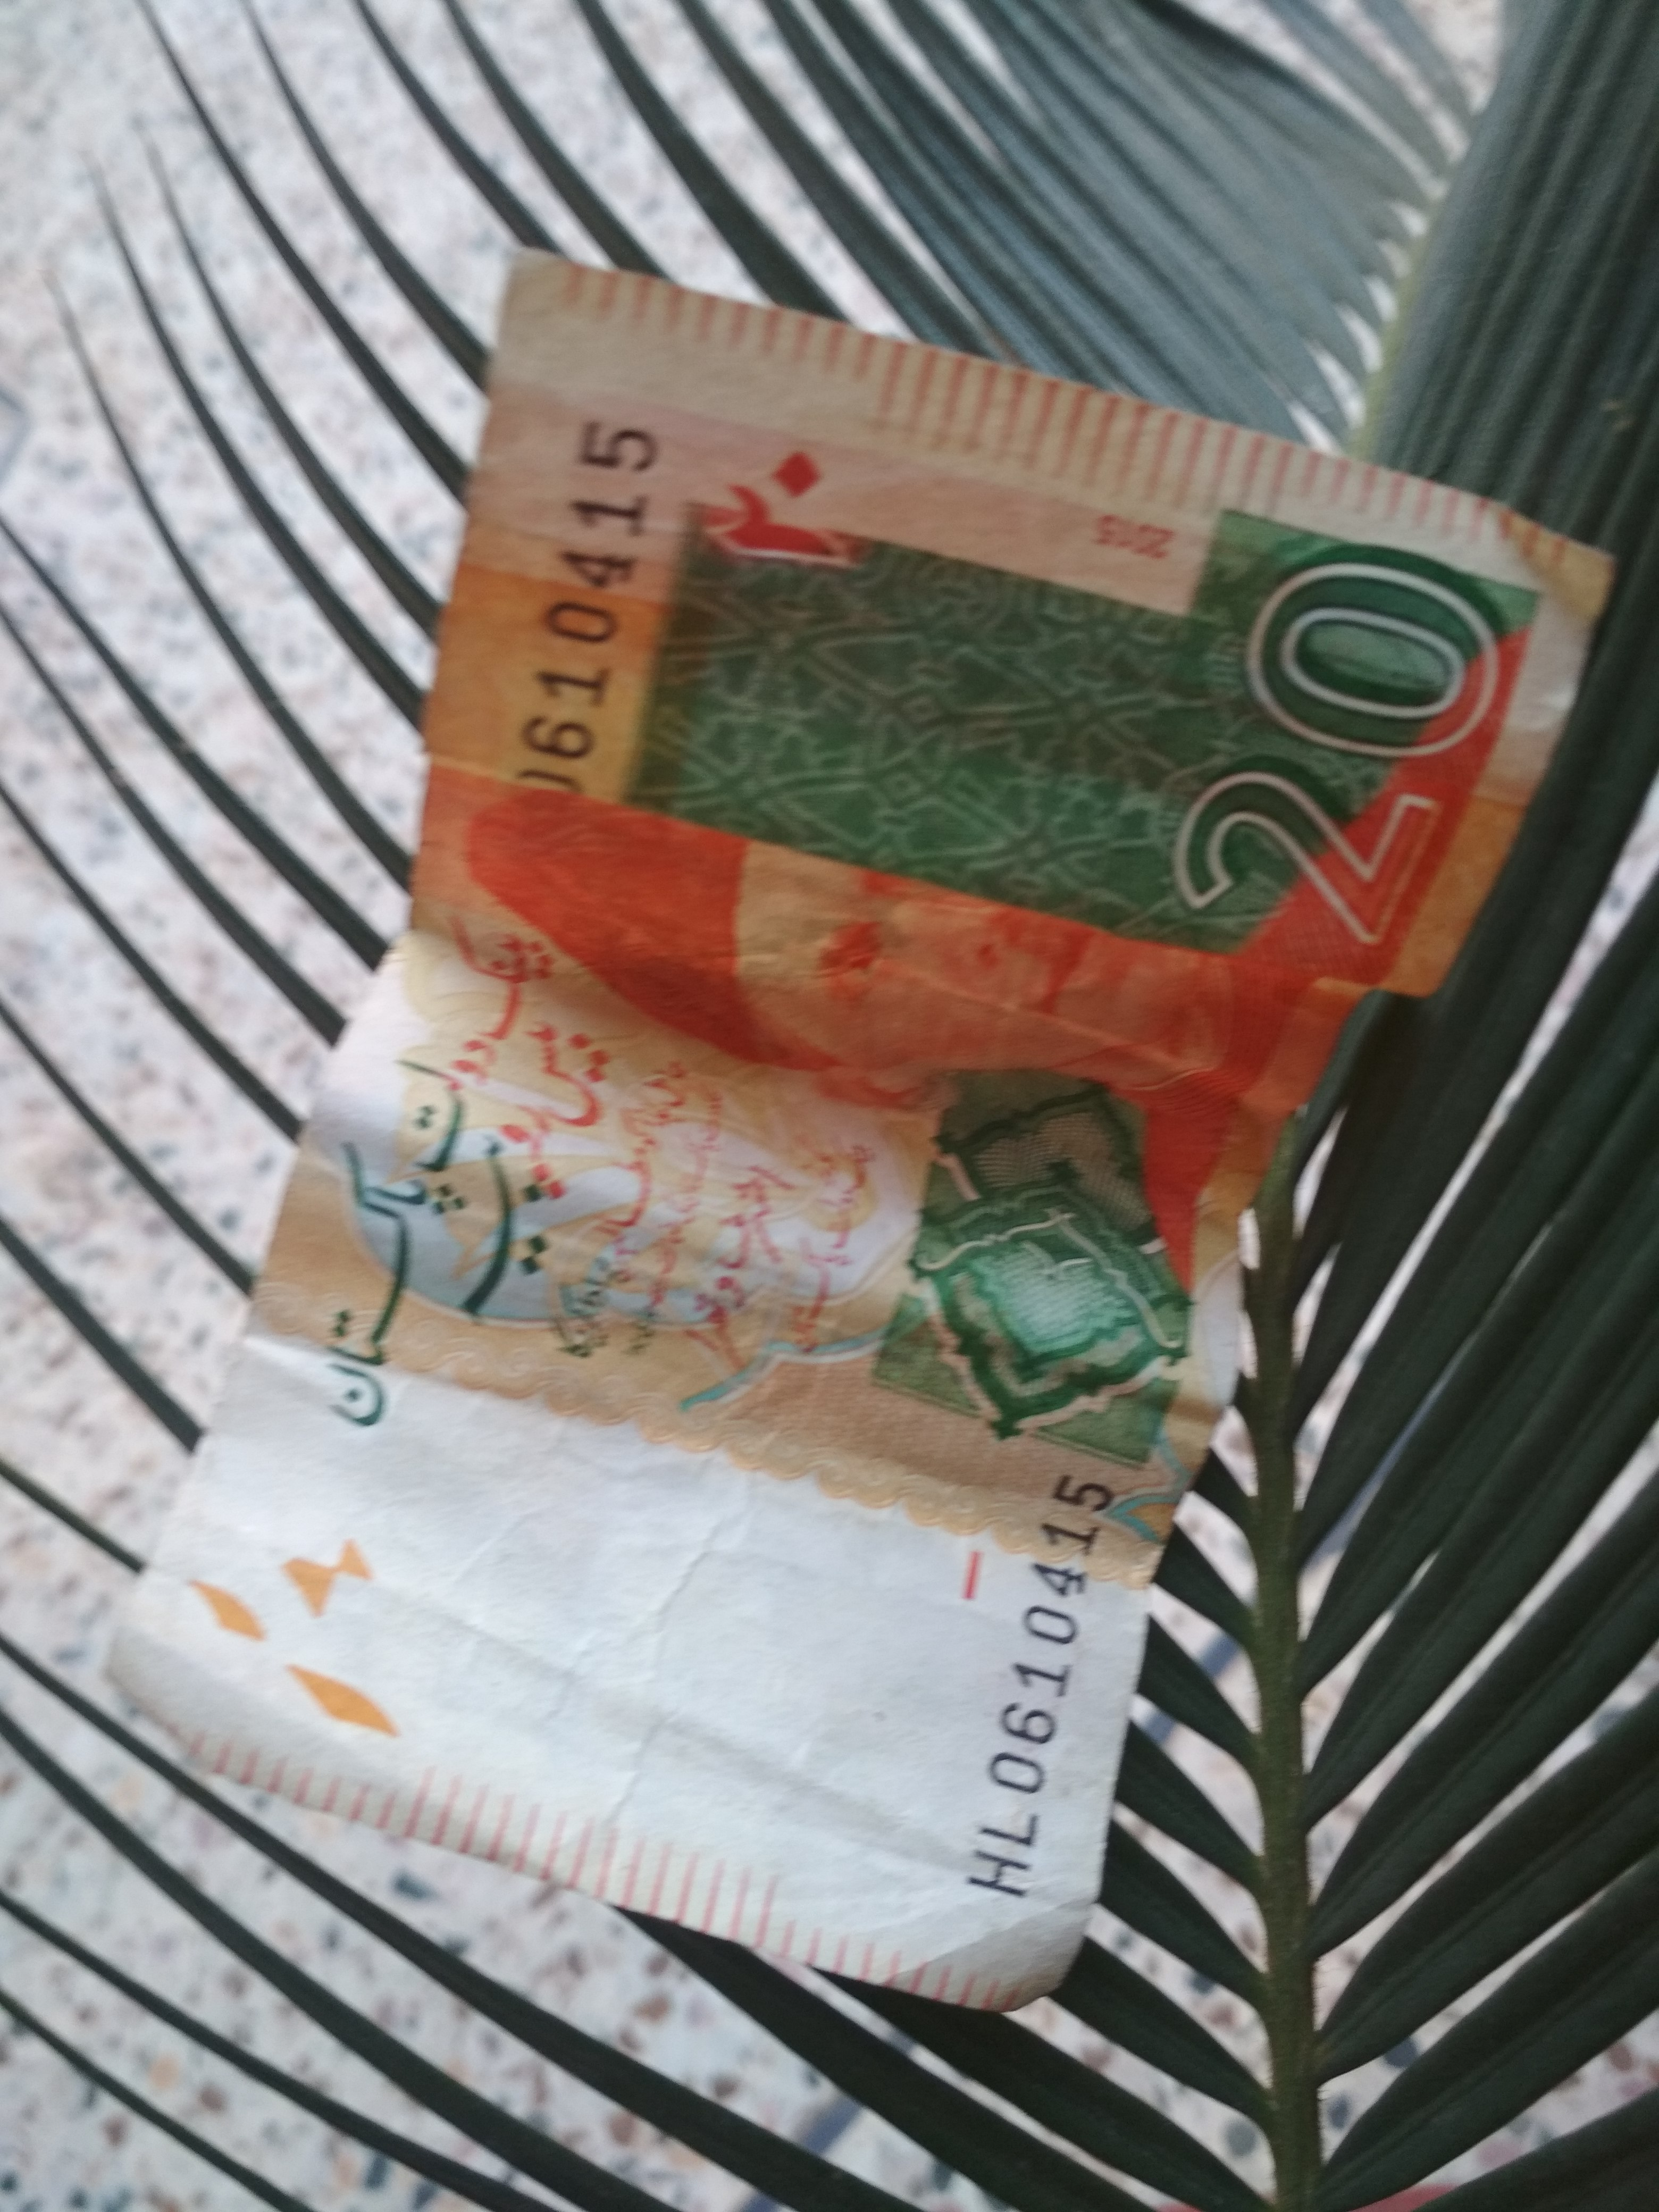20 rupee: (91, 226, 1615, 2013)
